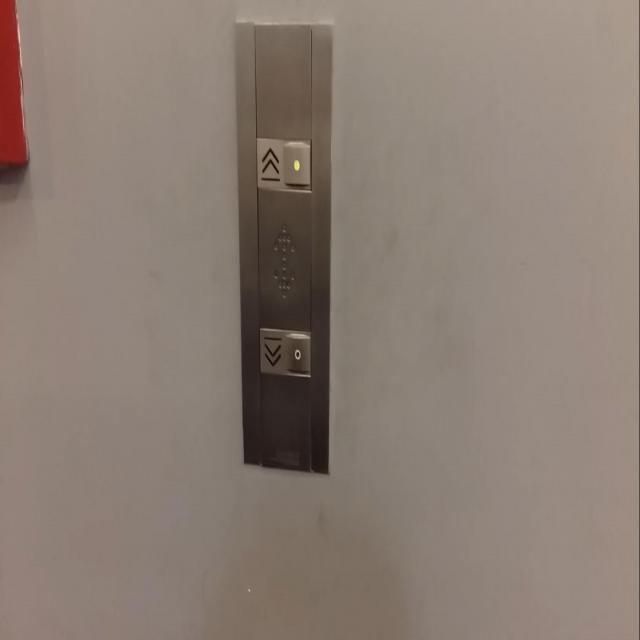down: (258, 323, 314, 382)
up: (255, 134, 316, 196)
